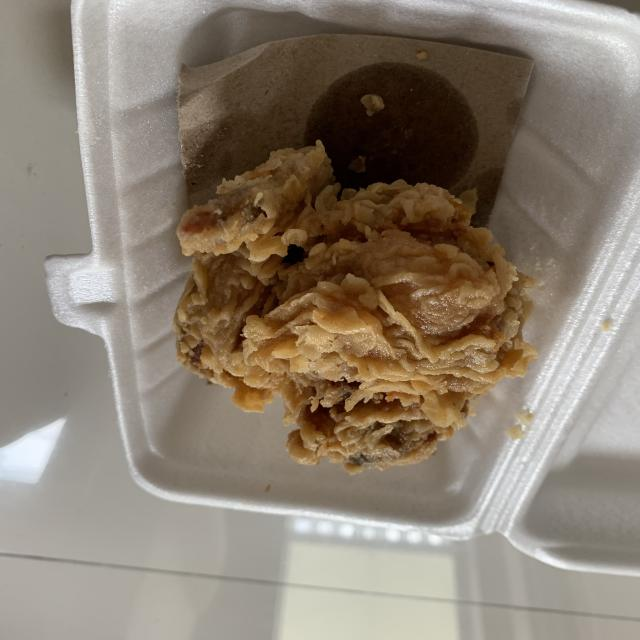Frango: (174, 145, 525, 470)
